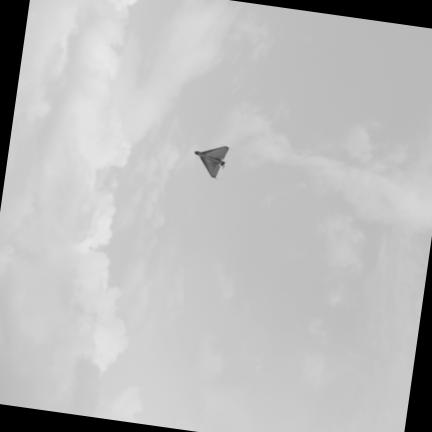Shahed: (194, 146, 227, 177)
